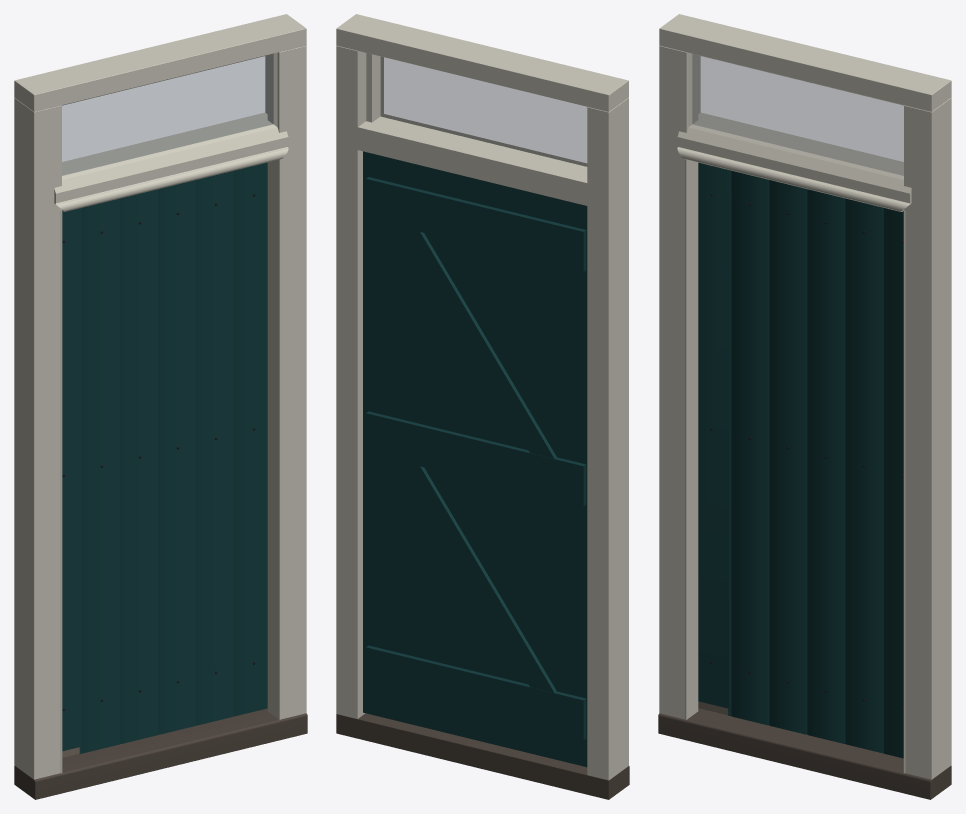
Rendered from door_F7.glb.
3 views of the same model, side by side, from view 1: azimuth 30°, elevation 25°; view 2: azimuth 150°, elevation 25°; view 3: azimuth 330°, elevation 25° (orthographic).
Parts seen in each view (by area): view 1: frame_jamb_L, frame_jamb_R, leaf_board_2, leaf_board_5, leaf_board_3, leaf_board_4, leaf_board_6, glass_fanlight, leaf_board_1, frame_transom, frame_head, stone_threshold (+3 smaller); view 2: frame_jamb_L, frame_jamb_R, leaf_board_6, leaf_board_1, leaf_board_2, leaf_board_5, leaf_board_3, leaf_board_4, glass_fanlight, frame_head, leaf_ledge_3, leaf_ledge_2 (+6 smaller); view 3: frame_jamb_R, frame_jamb_L, leaf_board_5, leaf_board_2, leaf_board_4, leaf_board_3, leaf_board_1, glass_fanlight, leaf_board_6, frame_transom, frame_head, stone_threshold (+3 smaller).
Part boxes in pixels (x1,y1,x2,y2): frame_jamb_L: (14,97,61,779); frame_jamb_R: (265,45,306,719); leaf_board_2: (82,198,120,753); leaf_board_5: (196,170,234,725); leaf_board_3: (120,189,158,743); leaf_board_4: (158,180,196,734); leaf_board_6: (234,162,267,716); glass_fanlight: (62,54,273,175); leaf_board_1: (62,208,82,753); frame_transom: (54,112,288,211); frame_head: (14,14,306,111); stone_threshold: (14,708,307,799); frame_jamb_L: (587,98,628,780); frame_jamb_R: (336,45,380,718); leaf_board_6: (363,151,401,721); leaf_board_1: (553,198,587,767); leaf_board_2: (515,188,553,758); leaf_board_5: (401,160,439,730); leaf_board_3: (477,179,515,749); leaf_board_4: (439,170,477,740); glass_fanlight: (381,57,586,166); frame_head: (336,14,628,111); leaf_ledge_3: (366,177,586,271); leaf_ledge_2: (366,411,586,506); frame_jamb_R: (904,97,951,779); frame_jamb_L: (659,45,700,719); leaf_board_5: (845,198,883,753); leaf_board_2: (731,170,769,725); leaf_board_4: (807,189,845,743); leaf_board_3: (769,180,807,734); leaf_board_1: (698,162,731,716); glass_fanlight: (692,54,903,175); leaf_board_6: (883,208,903,758); frame_transom: (677,112,911,211); frame_head: (659,14,951,111); stone_threshold: (658,708,951,799).
Size of the model in its own units: 1 by 2.47 by 0.149.
